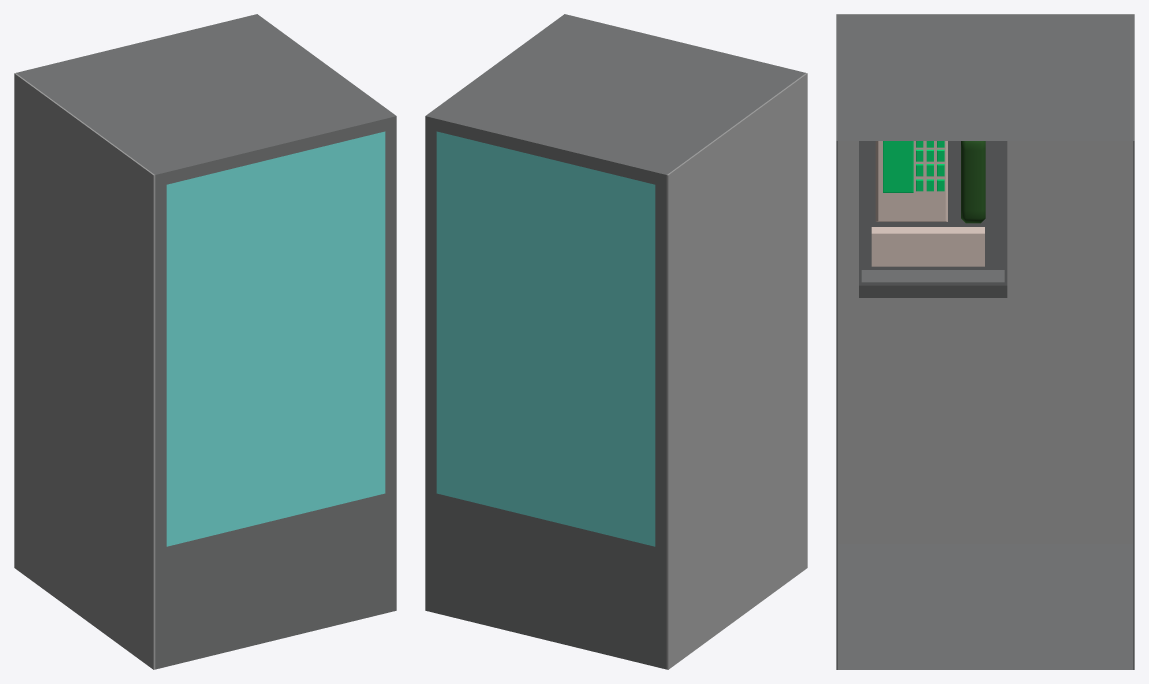
The model's file is Phone_Booth.fbx.
3 renders of one model, left to right at view 1: azimuth 30°, elevation 25°; view 2: azimuth 150°, elevation 25°; view 3: azimuth 270°, elevation 25°, orthographic. The views are drawn at different scales.
Parts seen in each view (by area): view 1: Phone_Booth; view 2: Phone_Booth; view 3: Phone_Booth.
Part boxes in pixels (left/top/right/bottom): Phone_Booth: left=14, top=14, right=396, bottom=669; Phone_Booth: left=425, top=14, right=807, bottom=669; Phone_Booth: left=836, top=14, right=1134, bottom=669.
Bounding box in the file's own units: 1.28 × 2.49 × 1.27.
